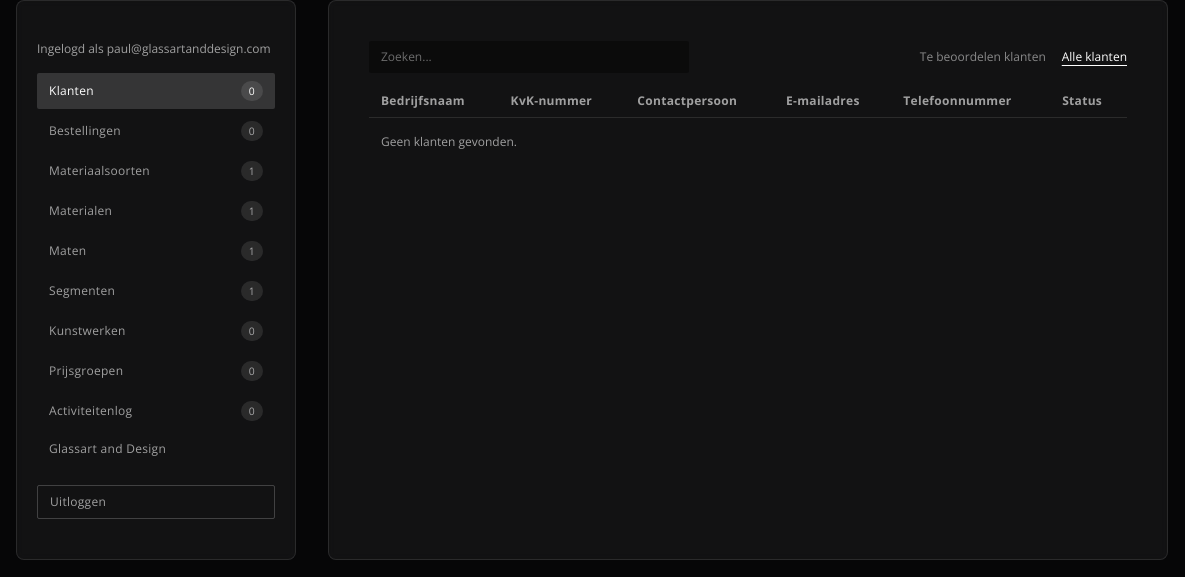
it: BeheerShell › shows the maten count and switches to the Maten section
Click the button with test id "beheer-nav-maten" at (156, 251), box [37, 233, 275, 269]
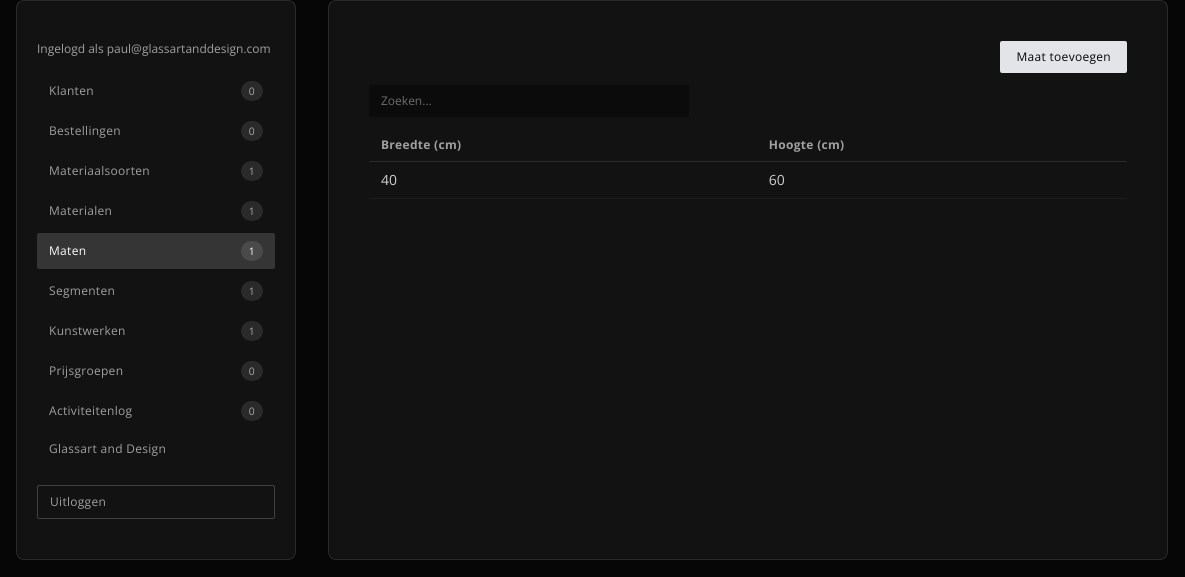
Result: the element with test id "maten-section" is shown at [369, 41, 1127, 199]
Result: the row with test id "data-table-row-maat-1" shows "40" at [381, 170, 397, 189]
